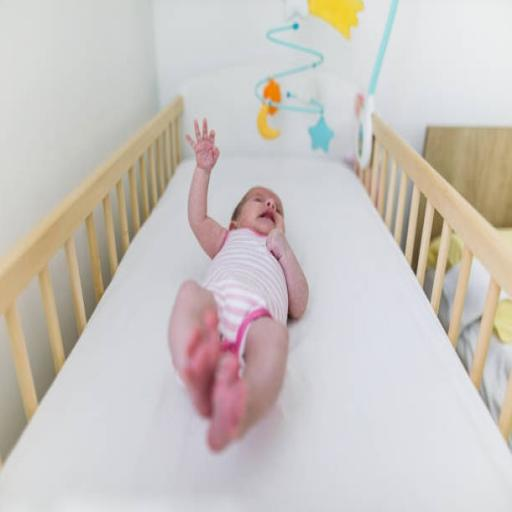baby: (169, 119, 308, 450)
crib: (0, 80, 511, 510)
